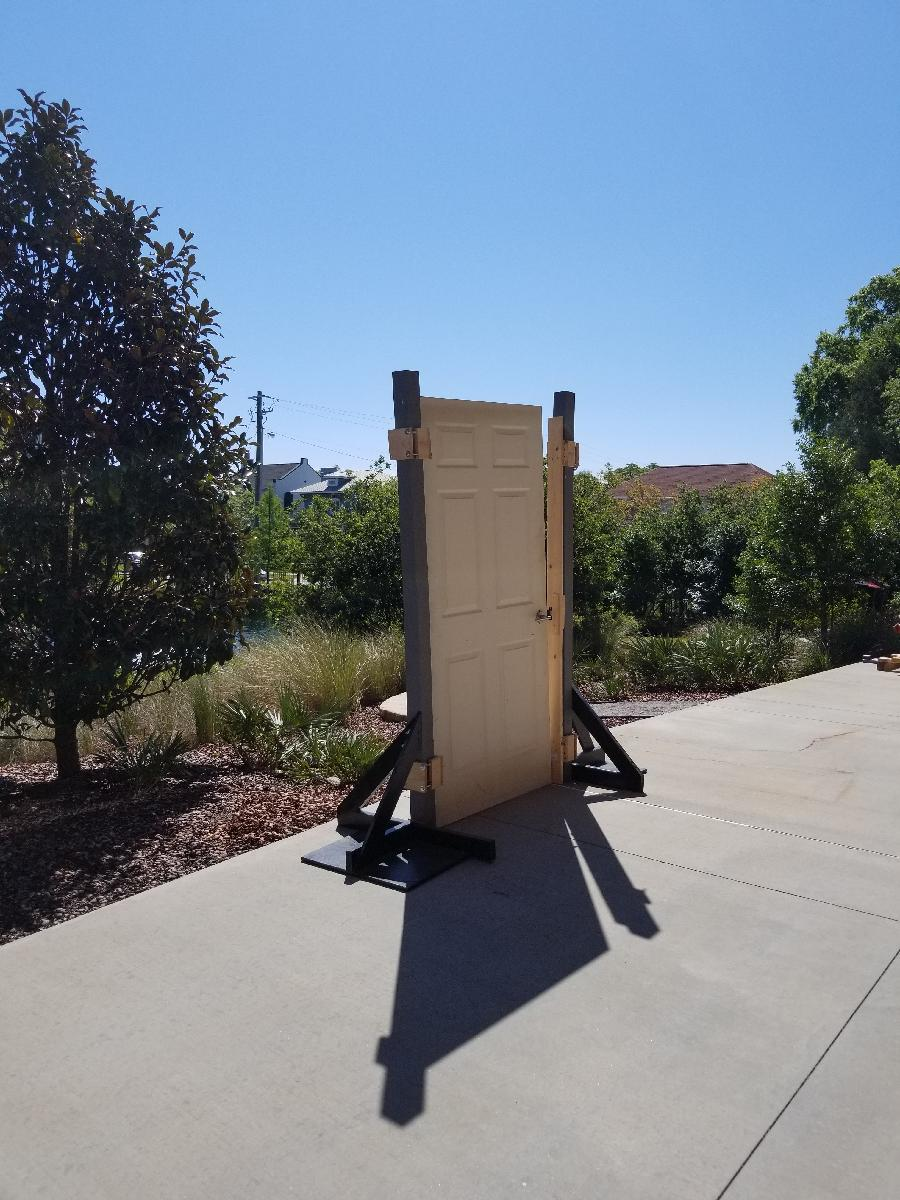door: (413, 389, 557, 838)
doorHandle: (532, 605, 551, 632)
